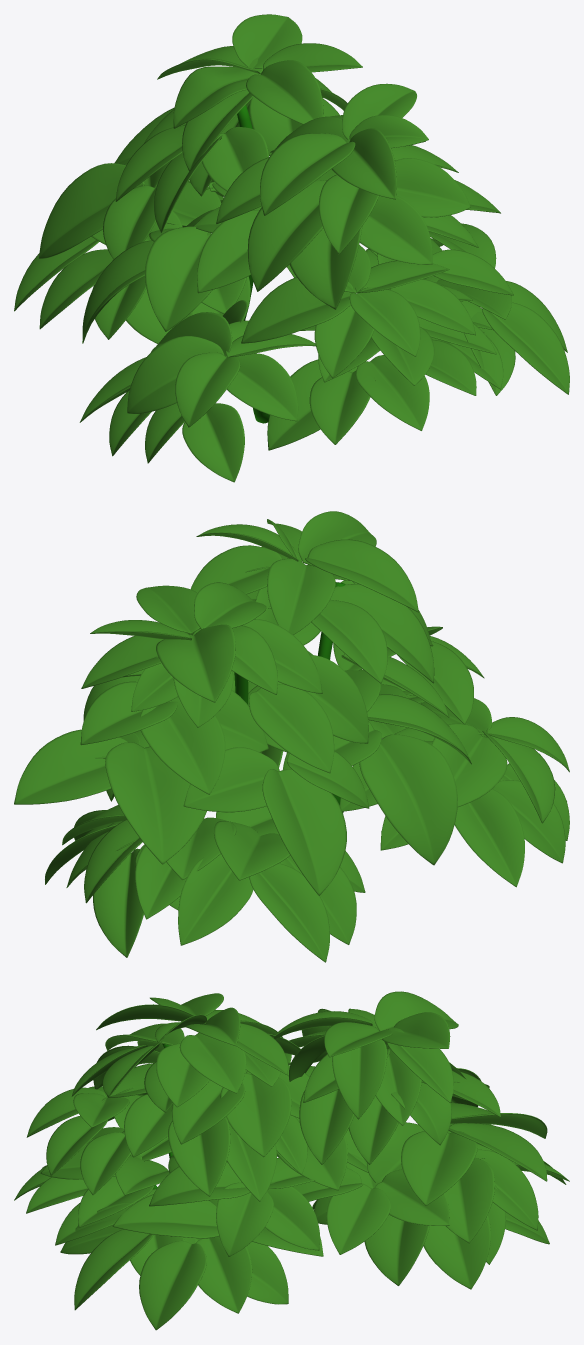
The model's file is OBJ_Bush_Small.fbx.
The picture shows the model from 3 angles, top to bottom: view 1: azimuth 30°, elevation 25°; view 2: azimuth 150°, elevation 25°; view 3: azimuth 270°, elevation 25°; orthographic projection. The views are drawn at different scales.
Visible parts, largest first — view 1: Bush_Small; view 2: Bush_Small; view 3: Bush_Small.
Part boxes in pixels (x1=…): Bush_Small: x1=14, y1=14, x2=569, y2=482; Bush_Small: x1=14, y1=511, x2=569, y2=962; Bush_Small: x1=14, y1=991, x2=569, y2=1330.
Bounding box in the file's own units: 19.42 × 11.87 × 22.96.
